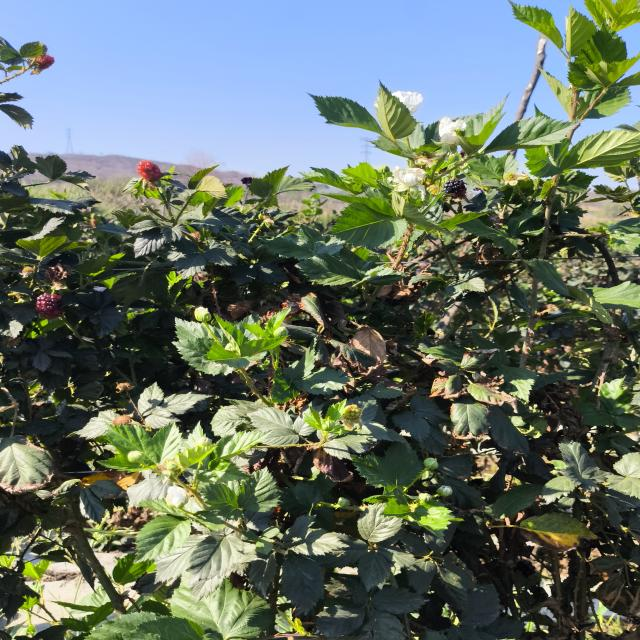boton: (127, 450, 145, 463), (424, 457, 438, 470), (436, 486, 452, 497), (165, 461, 180, 472), (337, 497, 349, 509)
flor: (439, 117, 466, 144), (392, 91, 423, 114), (394, 168, 425, 187), (374, 99, 378, 107)
maduro: (444, 179, 466, 197)
marron: (36, 294, 63, 319)
naranja: (137, 160, 162, 182)
verde: (344, 404, 361, 419)
